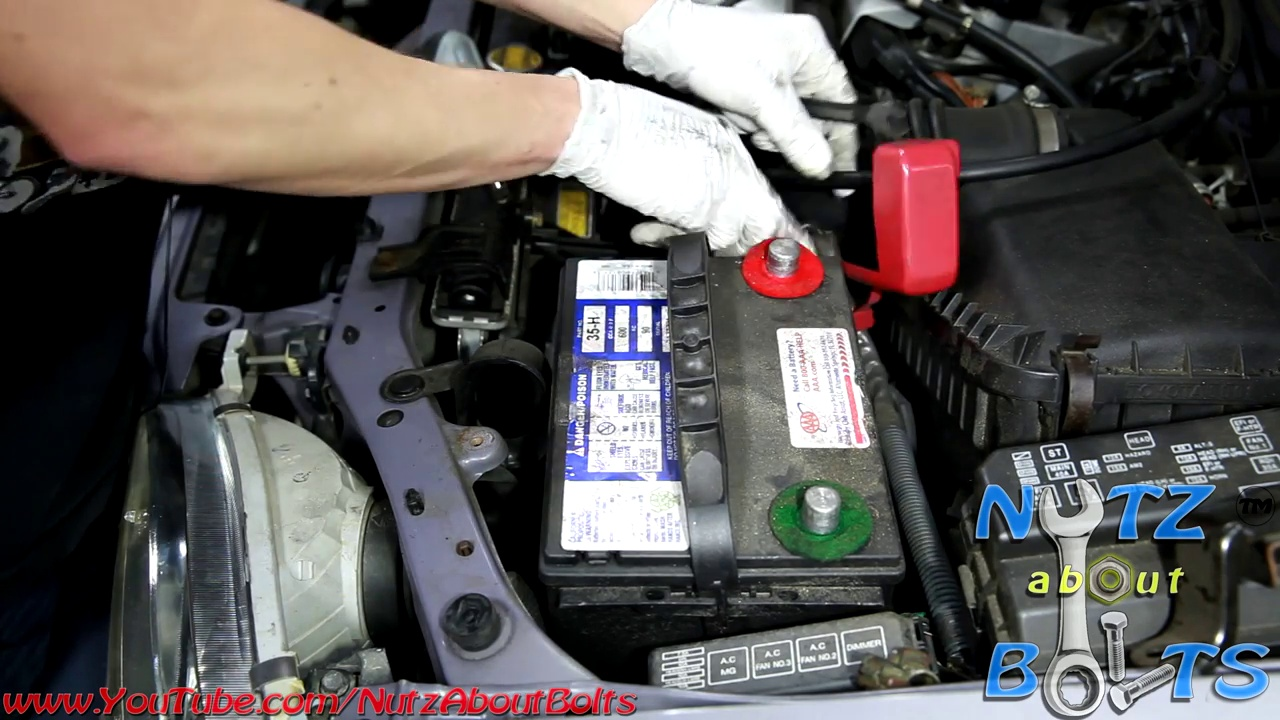battery: (554, 207, 911, 605)
neg_disconnected: (750, 446, 885, 573)
pos_disconnected: (726, 194, 950, 308)
pos_touched: (690, 156, 837, 314)
